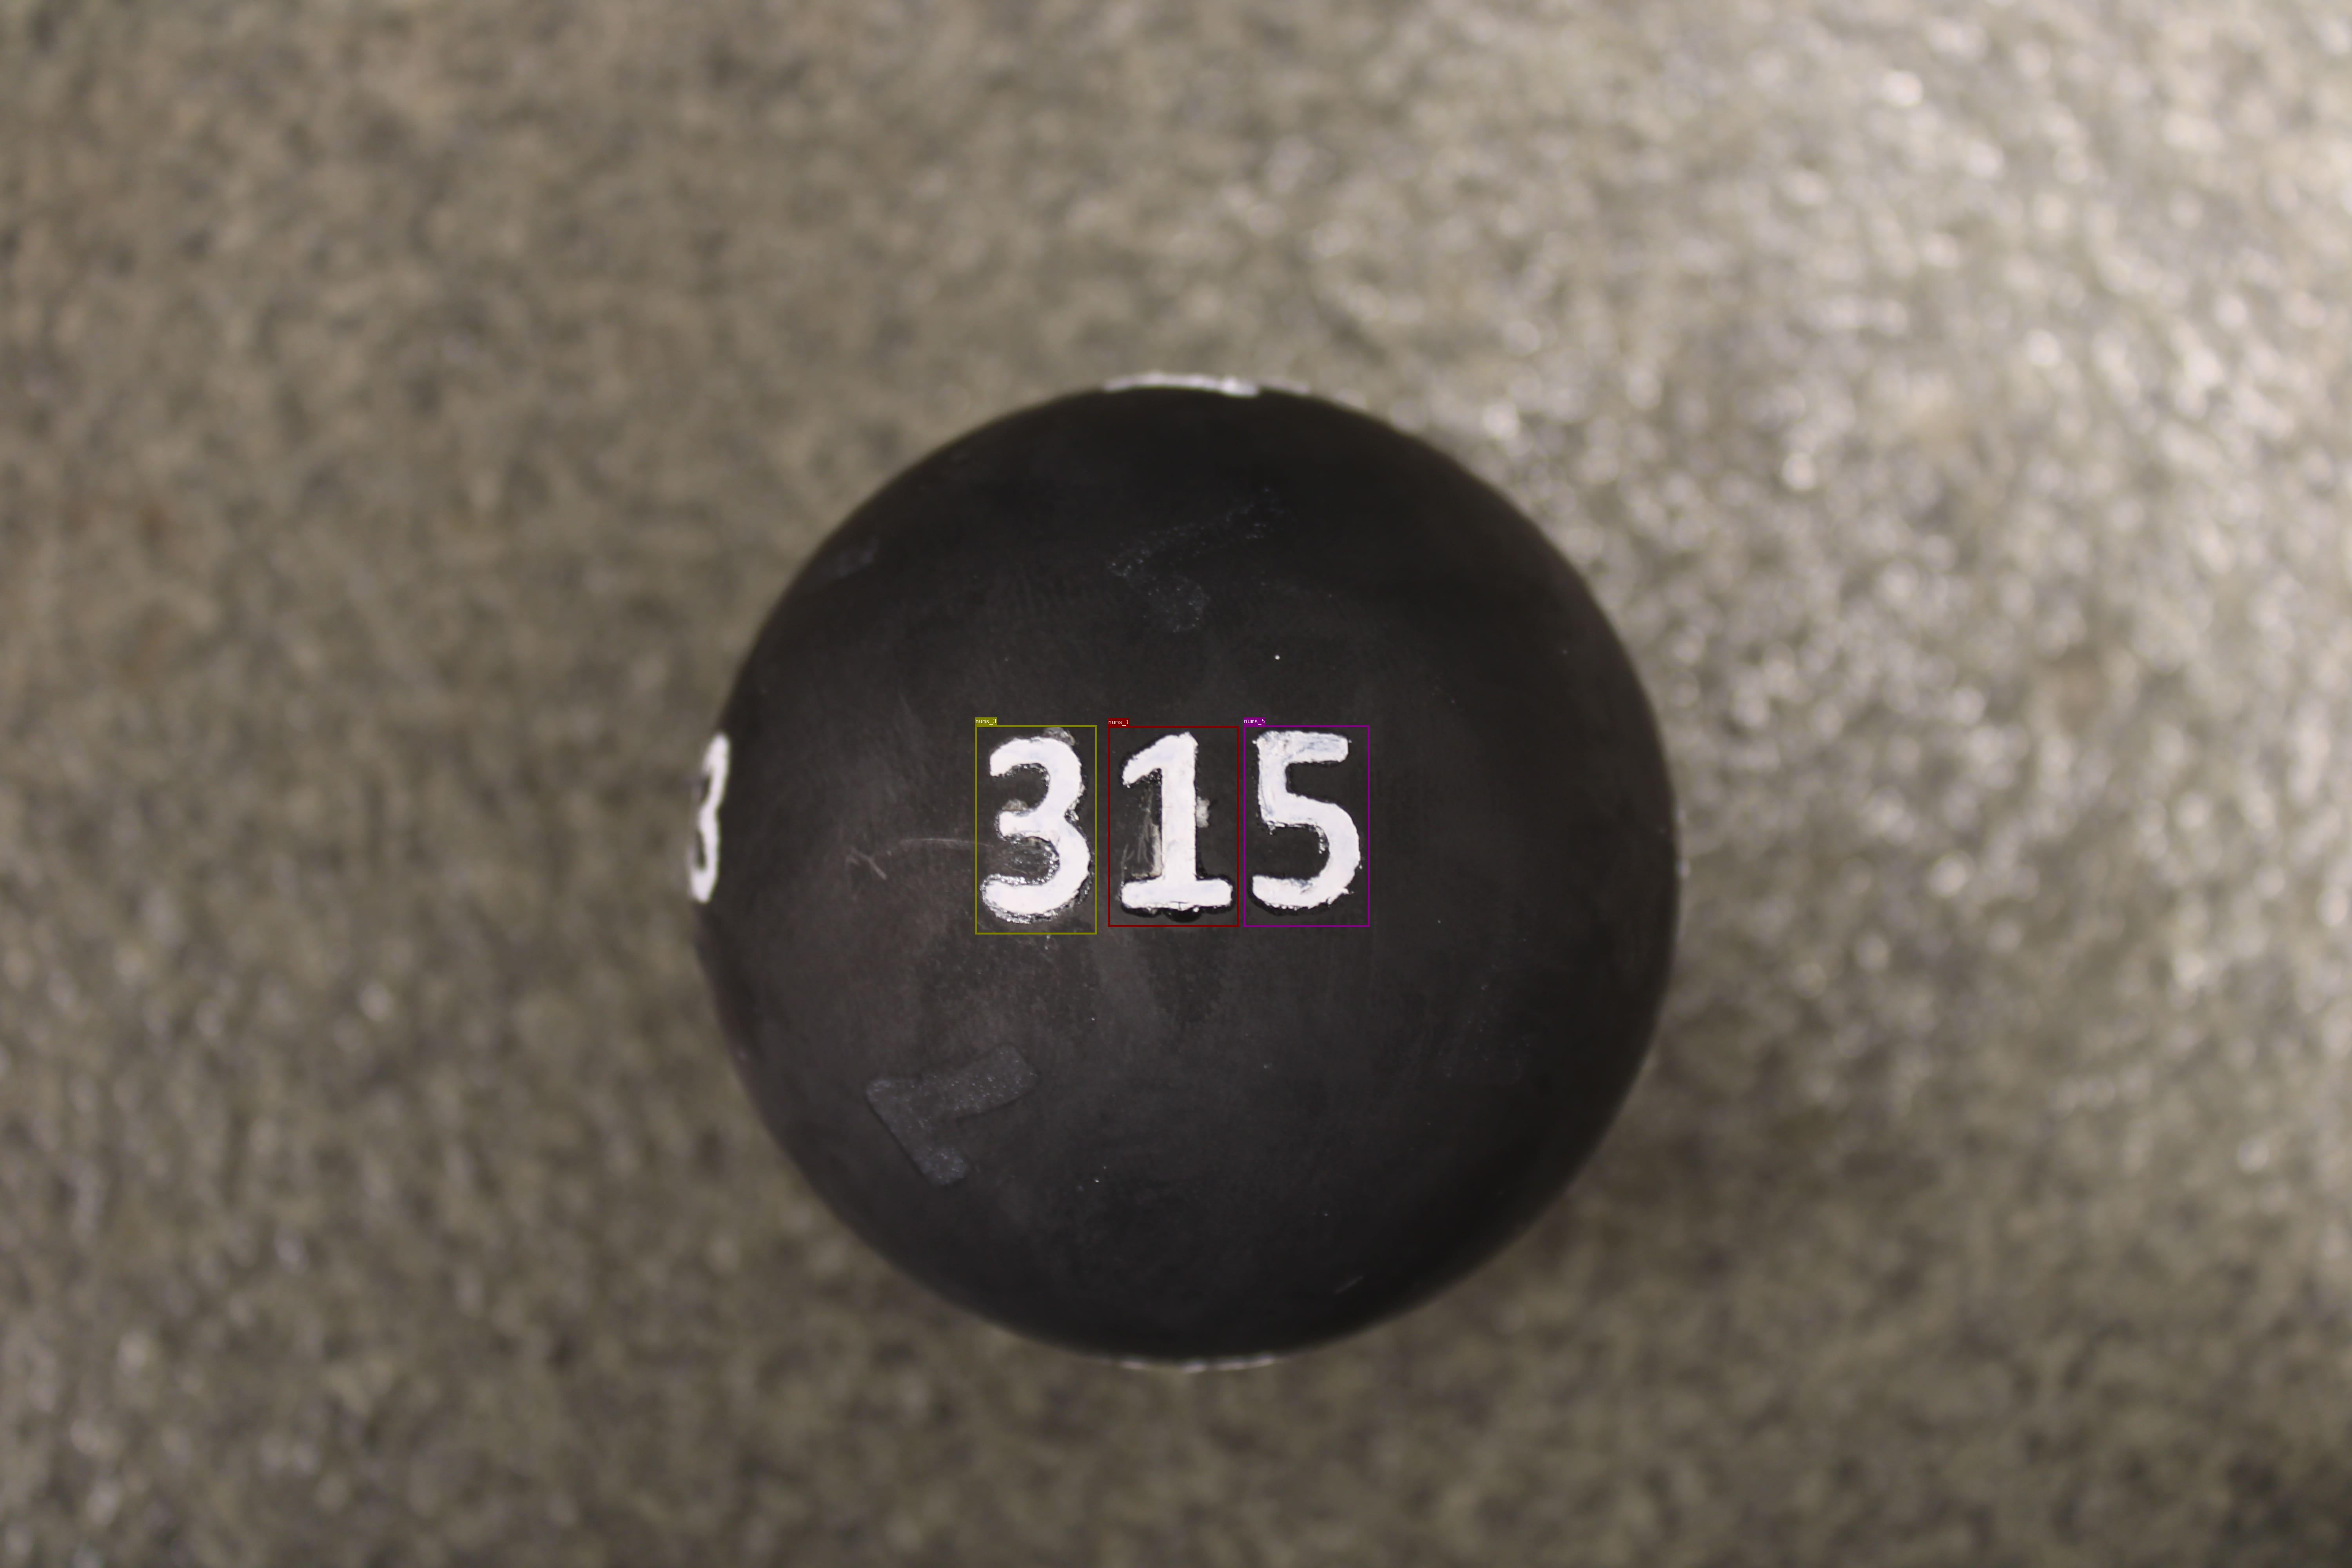nums_1: (1108, 726, 1239, 927)
nums_3: (975, 724, 1097, 935)
nums_5: (1244, 724, 1369, 927)
